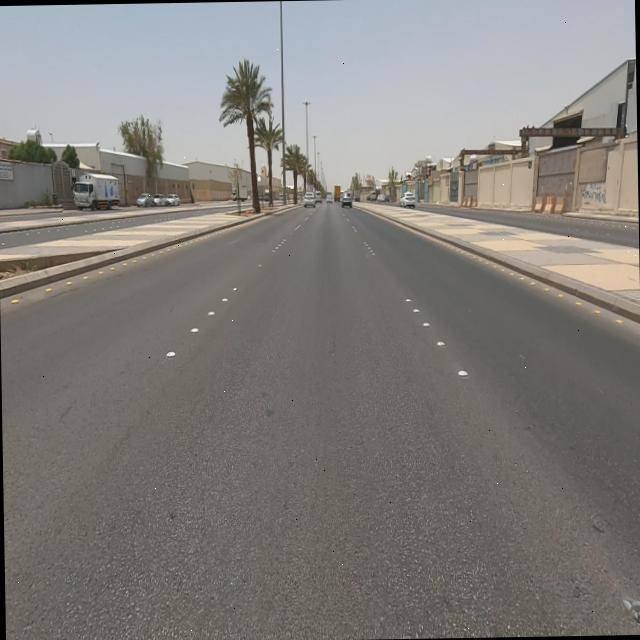Graffiti: (579, 181, 609, 207)
